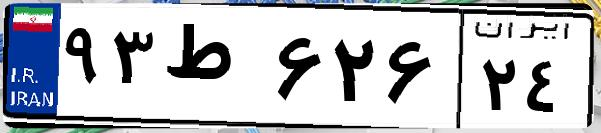2: (330, 28, 385, 110), (475, 38, 525, 113)
3: (110, 28, 158, 98)
4: (525, 38, 570, 115)
6: (270, 28, 330, 110), (385, 28, 445, 110)
9: (57, 26, 110, 100)
ط: (158, 20, 270, 120)
